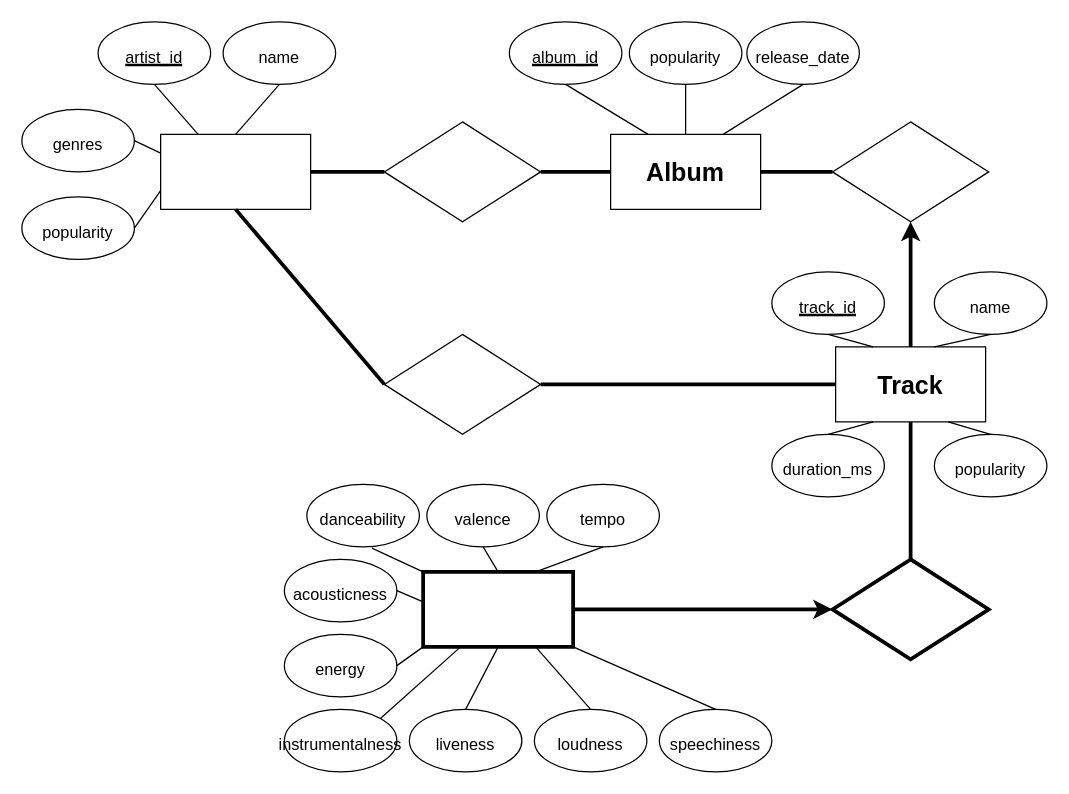
Image size: 1069x794. Some labels were removed from this diagram. Each missing label, with the box of its shape:
Artist: (159, 133, 311, 209)
Audio Features: (421, 569, 574, 648)
Constitutes: (830, 557, 990, 661)
Contains: (831, 121, 989, 222)
Releases: (383, 121, 541, 222)
Sings: (383, 333, 541, 434)
